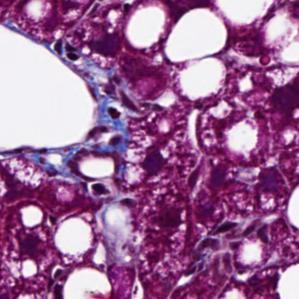inflammation: (135, 137, 178, 186), (85, 174, 115, 211)
